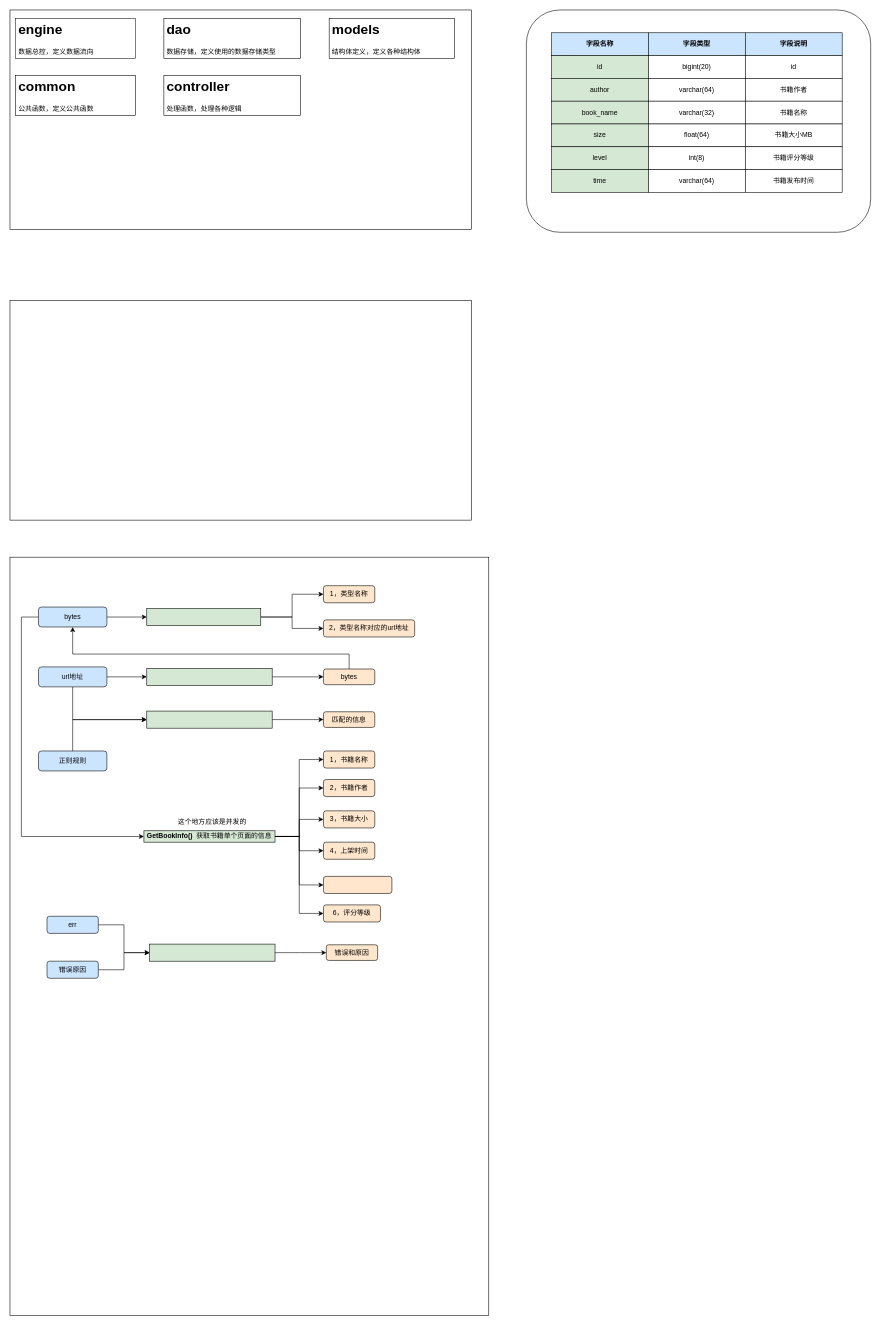
This 881x1325 diagram has some shape labels left out. Each missing label, with the centre of its shape:
"5，书籍下载地址" goes at (x=357, y=884).
"AnalysisHttpUrl() 解析url地址" goes at (x=209, y=676).
"AnalysisRegular() 解析正则规则" goes at (x=209, y=719).
"GetBookTypes() 获取书籍类型页面" goes at (x=203, y=617).
"HandlerError() 定义错误" goes at (x=212, y=952).
